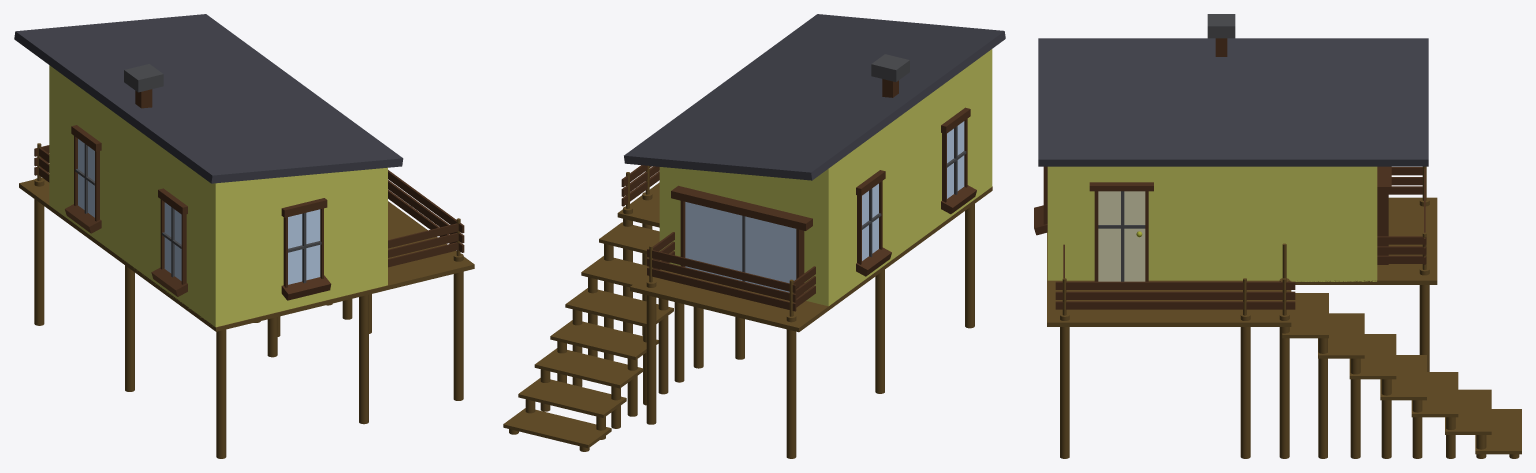
File: BeachHouse1.fbx
3 views of the same model, side by side, from view 1: azimuth 30°, elevation 25°; view 2: azimuth 150°, elevation 25°; view 3: azimuth 270°, elevation 25° (orthographic).
Visible parts, largest first — view 1: Cube.626, Cube.949, Cube.621, Cube.620, Cube.3273, Cylinder.030, Cylinder.023, Cylinder.027, Cylinder.028, Cylinder.025, Cube.942, Cube.935 (+11 smaller); view 2: Cube.949, Cube.626, Cube.921, Cube.620, Cube.669, Cube.692, Cube.674, Cube.668, Cube.918, Cube.650, Cylinder.023, Cylinder.024 (+17 smaller); view 3: Cube.949, Cube.626, Cube.621, Cube.929, Cube.620, Cube.716, Cube.693, Cube.698, Cube.644, Cube.645, Cube.650, Cube.674 (+14 smaller).
Boxes of the visible parts, left/top/right/bottom form: Cube.626: left=49, top=65, right=387, bottom=327; Cube.949: left=14, top=14, right=403, bottom=183; Cube.621: left=388, top=201, right=474, bottom=289; Cube.620: left=19, top=177, right=388, bottom=331; Cube.3273: left=288, top=209, right=320, bottom=284; Cylinder.030: left=453, top=253, right=463, bottom=400; Cylinder.023: left=34, top=178, right=44, bottom=325; Cylinder.027: left=216, top=329, right=226, bottom=458; Cylinder.028: left=359, top=294, right=368, bottom=424; Cylinder.025: left=125, top=265, right=134, bottom=391; Cube.942: left=164, top=202, right=181, bottom=280; Cube.935: left=78, top=139, right=94, bottom=217; Cube.949: left=624, top=14, right=1005, bottom=180; Cube.626: left=659, top=49, right=992, bottom=306; Cube.921: left=685, top=202, right=796, bottom=292; Cube.620: left=630, top=186, right=992, bottom=332; Cube.669: left=534, top=348, right=643, bottom=388; Cube.692: left=503, top=408, right=611, bottom=448; Cube.674: left=518, top=378, right=626, bottom=417; Cube.668: left=550, top=320, right=658, bottom=360; Cube.918: left=671, top=185, right=812, bottom=230; Cube.650: left=565, top=288, right=673, bottom=327; Cylinder.023: left=786, top=314, right=796, bottom=458; Cylinder.024: left=646, top=280, right=656, bottom=424; Cube.949: left=1038, top=38, right=1428, bottom=166; Cube.626: left=1047, top=166, right=1377, bottom=281; Cube.621: left=1047, top=280, right=1291, bottom=326; Cube.929: left=1098, top=191, right=1145, bottom=281; Cube.620: left=1047, top=197, right=1437, bottom=284; Cube.716: left=1055, top=301, right=1295, bottom=309; Cube.693: left=1055, top=281, right=1295, bottom=289; Cube.698: left=1055, top=291, right=1295, bottom=299; Cube.644: left=1282, top=293, right=1328, bottom=338; Cube.645: left=1318, top=313, right=1364, bottom=358; Cube.650: left=1349, top=334, right=1396, bottom=379; Cube.674: left=1445, top=389, right=1491, bottom=434.
Bounding box in the file's own units: 9324 × 10742 × 14700.
